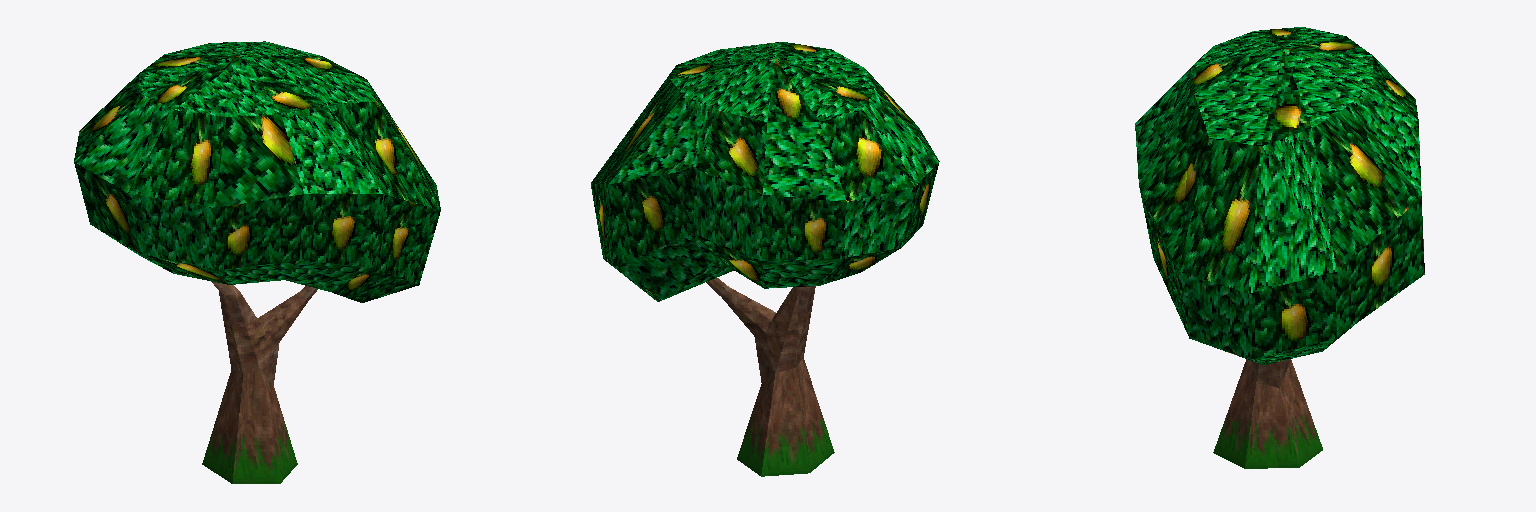
3 renders of one model, left to right at view 1: azimuth 30°, elevation 25°; view 2: azimuth 150°, elevation 25°; view 3: azimuth 270°, elevation 25°, orthographic.
Visible parts, largest first — view 1: 32, 31, 29, 30; view 2: 31, 32, 29, 30; view 3: 32, 31, 29, 30.
Boxes of the visible parts, x1,y1,x2,y2 form: 32: [74, 54, 440, 302]; 31: [74, 41, 382, 291]; 29: [202, 370, 297, 483]; 30: [211, 281, 317, 384]; 31: [593, 42, 939, 301]; 32: [591, 42, 938, 301]; 29: [737, 358, 834, 476]; 30: [706, 278, 815, 382]; 32: [1139, 27, 1424, 363]; 31: [1135, 27, 1421, 364]; 29: [1213, 359, 1322, 468]; 30: [1252, 359, 1290, 388].
Size of the model in its own units: 52.08 by 60.83 by 39.71.
4 materials, 4 textured.